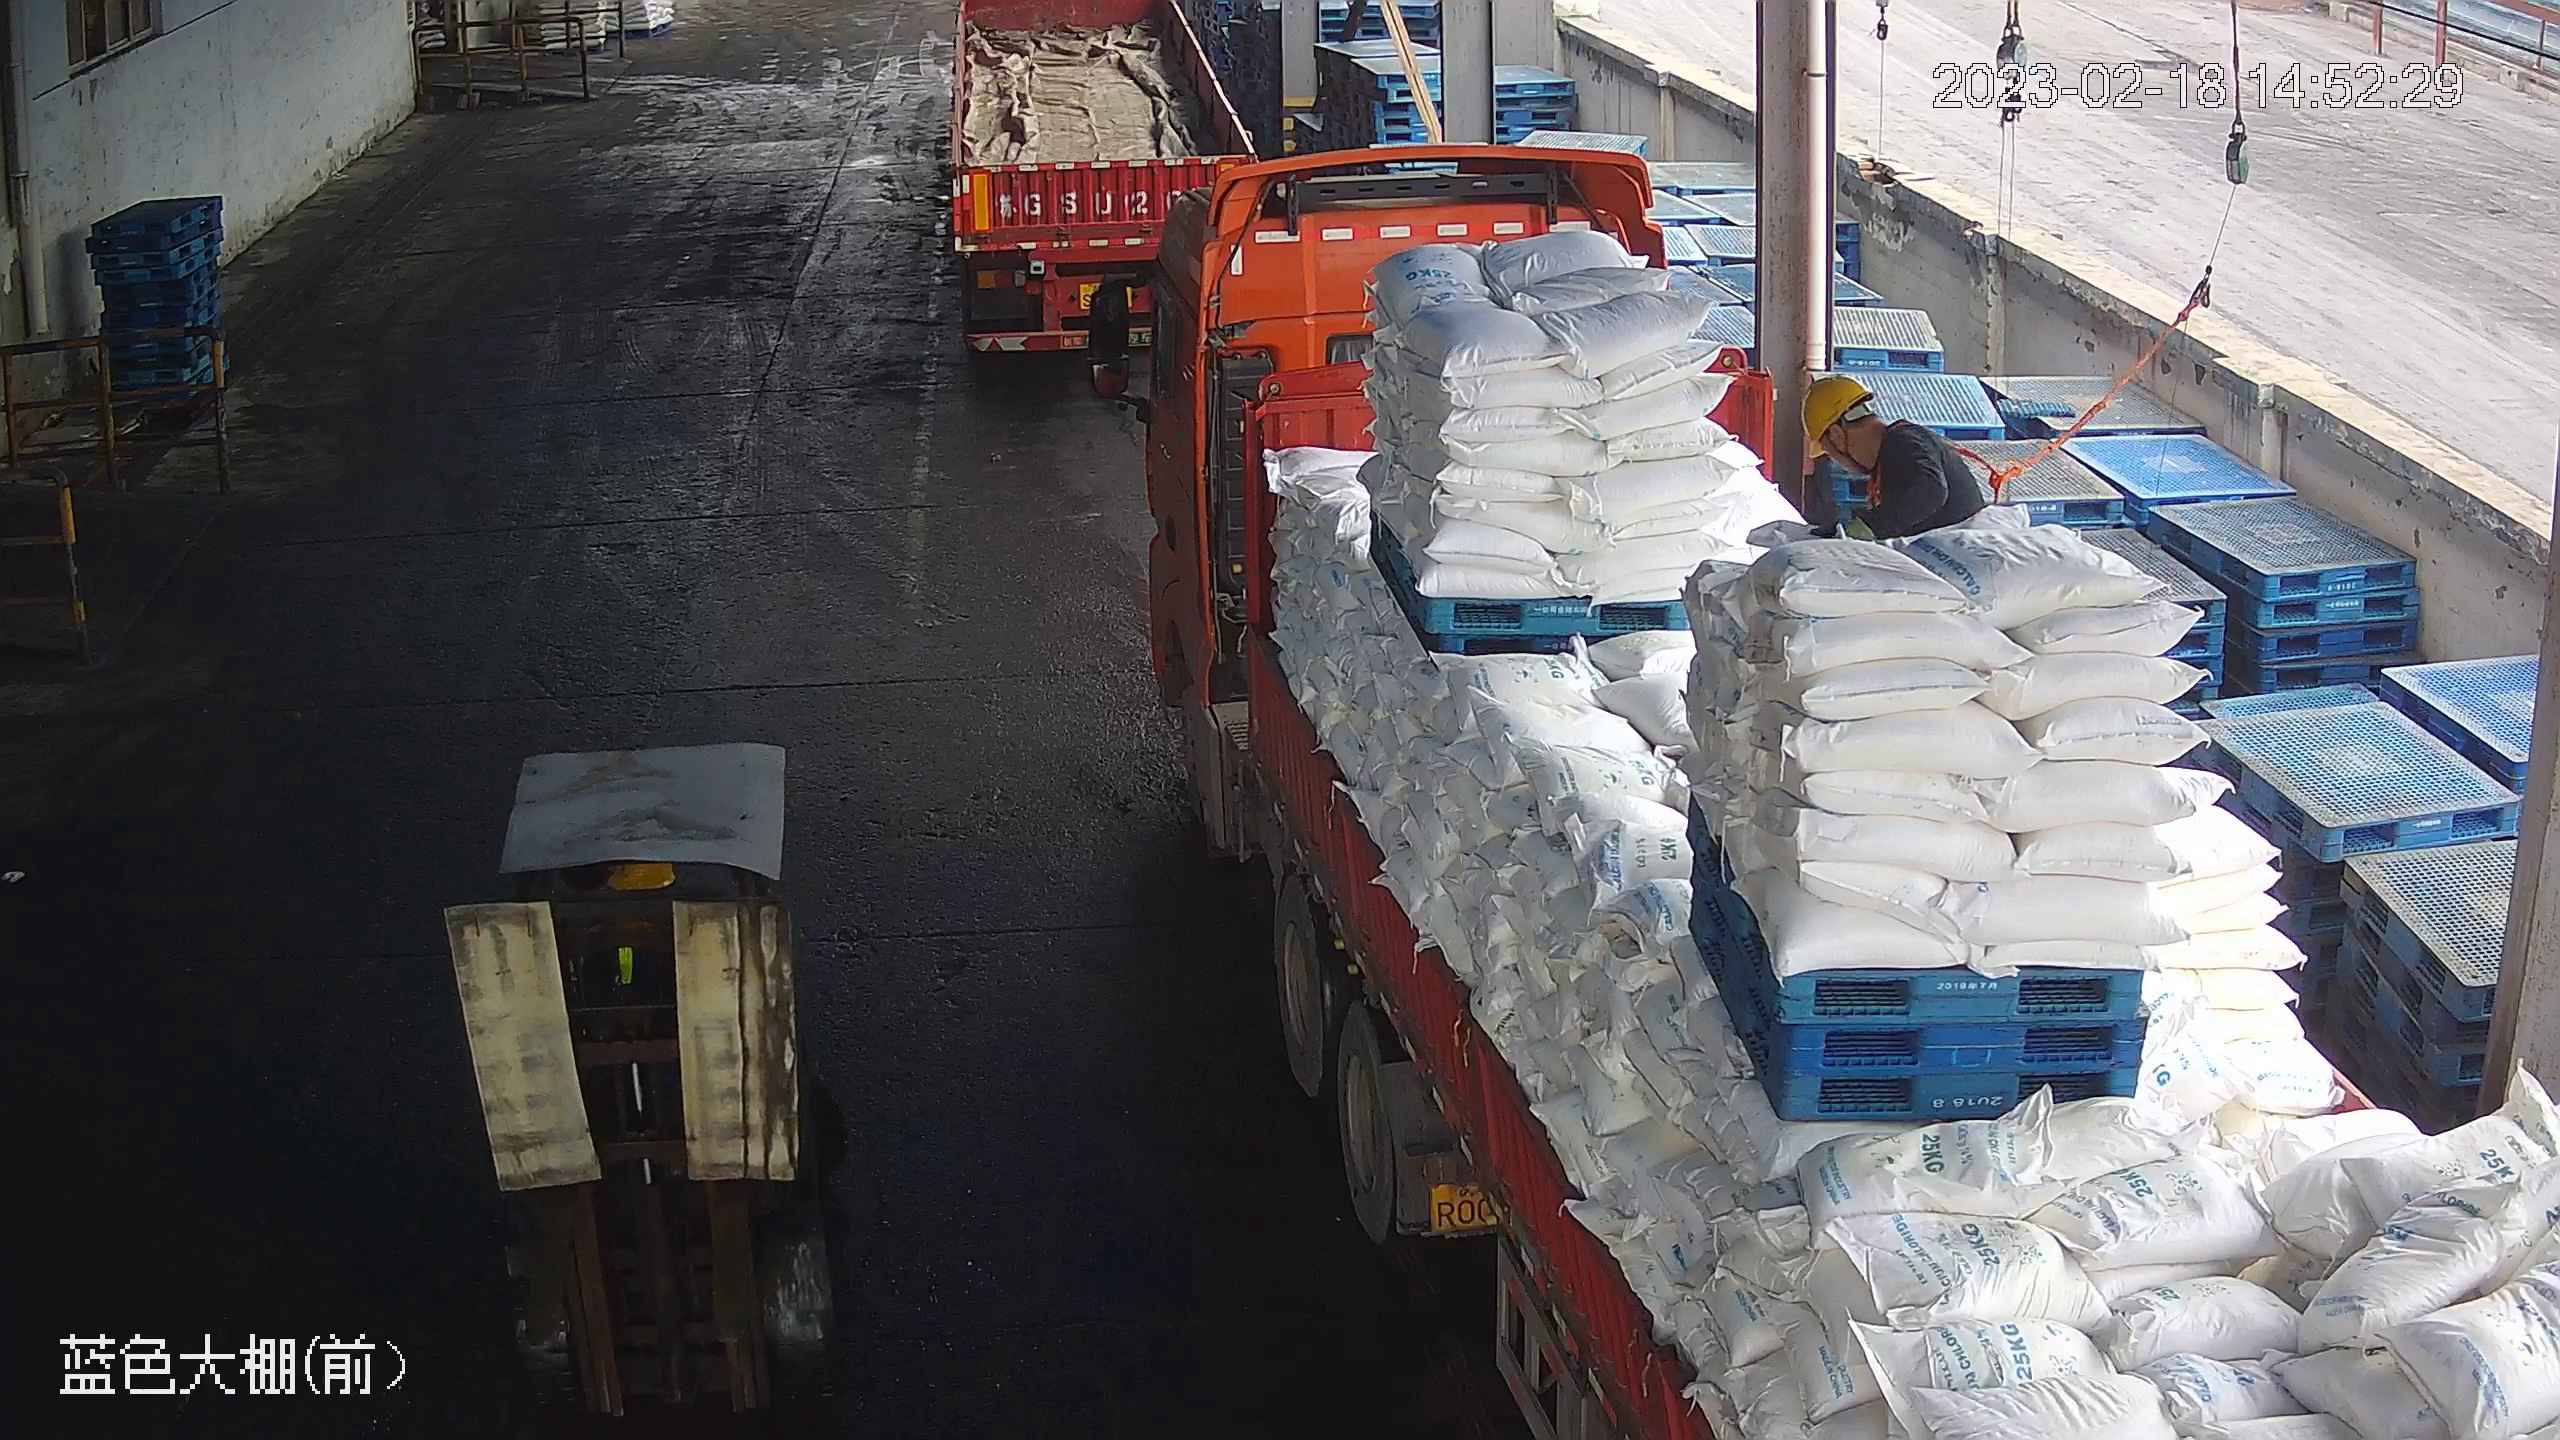belt: (1863, 421, 1935, 505)
head: (1802, 370, 1942, 501)
helmet: (1798, 369, 1875, 453)
truck: (1036, 156, 2556, 1440), (920, 1, 1253, 367)
